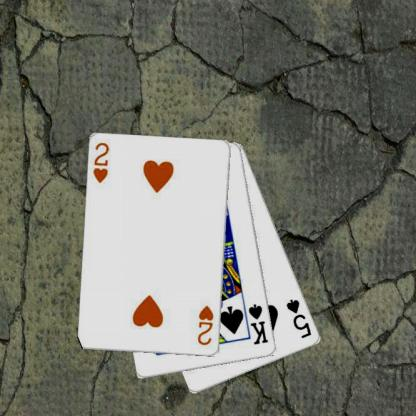2H: (90, 140, 110, 185), (195, 303, 215, 347)
5S: (284, 296, 313, 340)
KS: (246, 301, 270, 346)
